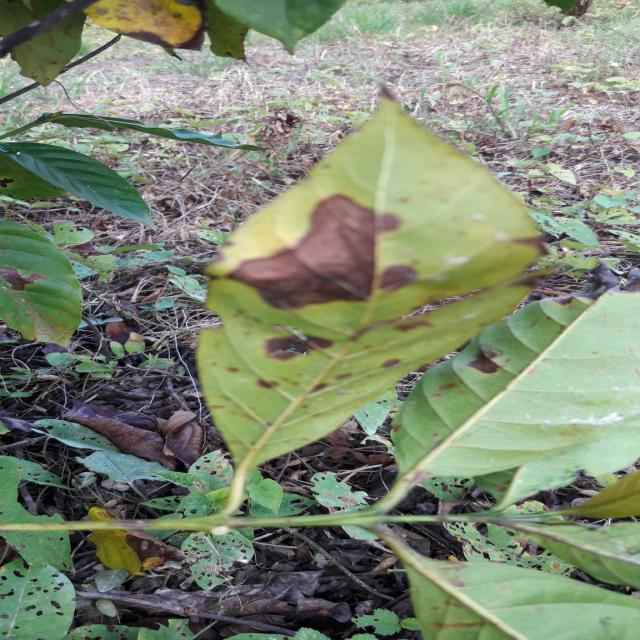Plaga-AranaRoja: (195, 98, 548, 520)
